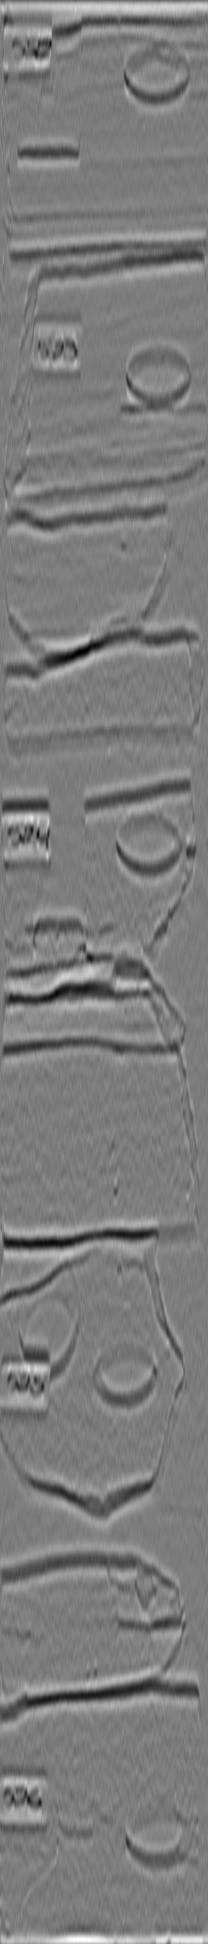hplug: (119, 1799, 197, 1875), (116, 33, 196, 107), (87, 1336, 161, 1413), (111, 805, 184, 879), (121, 337, 191, 407)
vplug: (12, 17, 97, 162), (41, 1793, 110, 1944), (21, 813, 93, 957), (12, 1253, 83, 1387)
